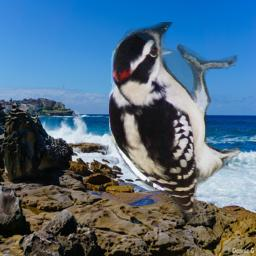Woodpecker: (109, 22, 241, 225)
